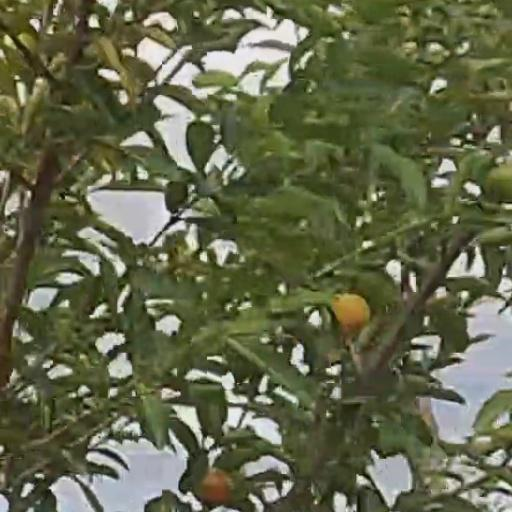acerola: (333, 294, 371, 330), (485, 165, 512, 200), (202, 469, 228, 504)
